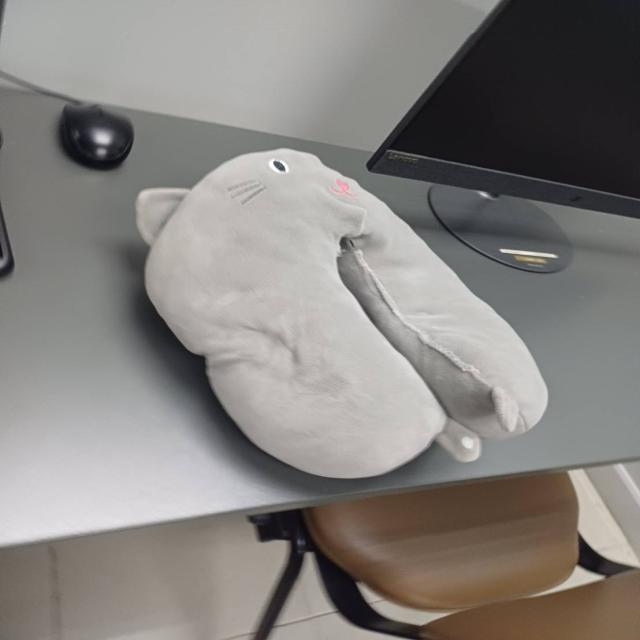pillow: (126, 144, 558, 486)
